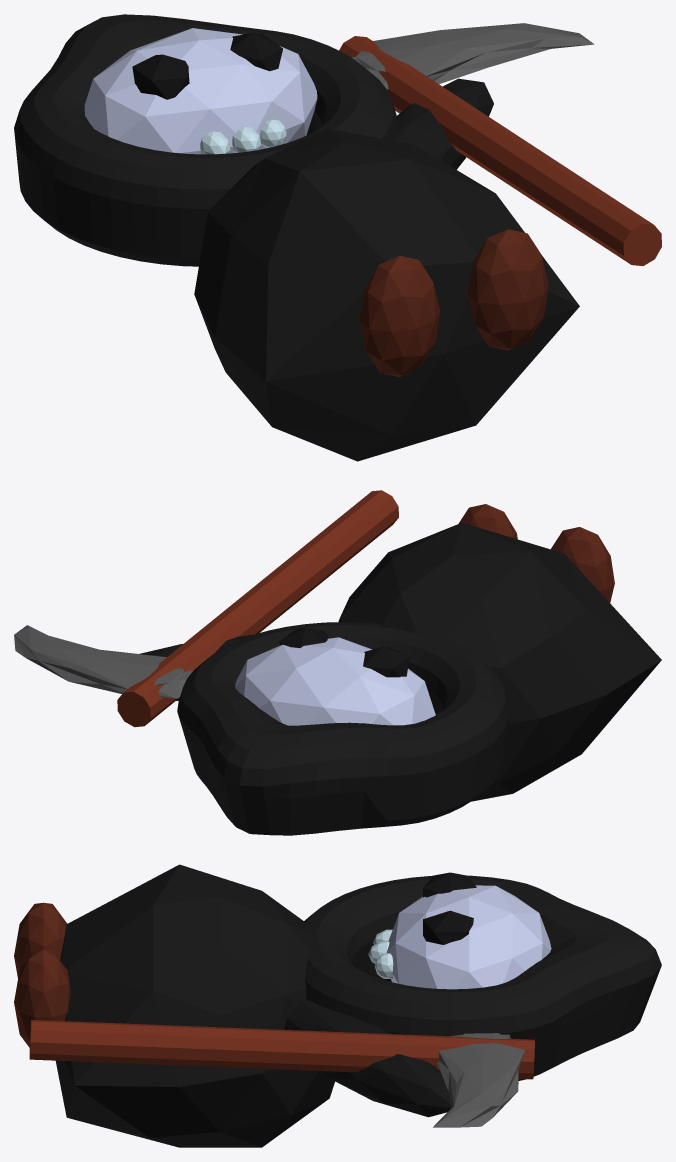
The model's file is death.glb.
3 views of the same model, one above another, from view 1: azimuth 30°, elevation 25°; view 2: azimuth 150°, elevation 25°; view 3: azimuth 270°, elevation 25° (orthographic). The views are drawn at different scales.
Parts seen in each view (by area): view 1: Icosphere.009; view 2: Icosphere.009; view 3: Icosphere.009.
Part boxes in pixels (box(x1,y1,x2,y2)): Icosphere.009: box(14, 14, 661, 461); Icosphere.009: box(14, 490, 661, 835); Icosphere.009: box(14, 864, 661, 1147).
Size of the model in its own units: 4.08 by 2.07 by 4.8.
